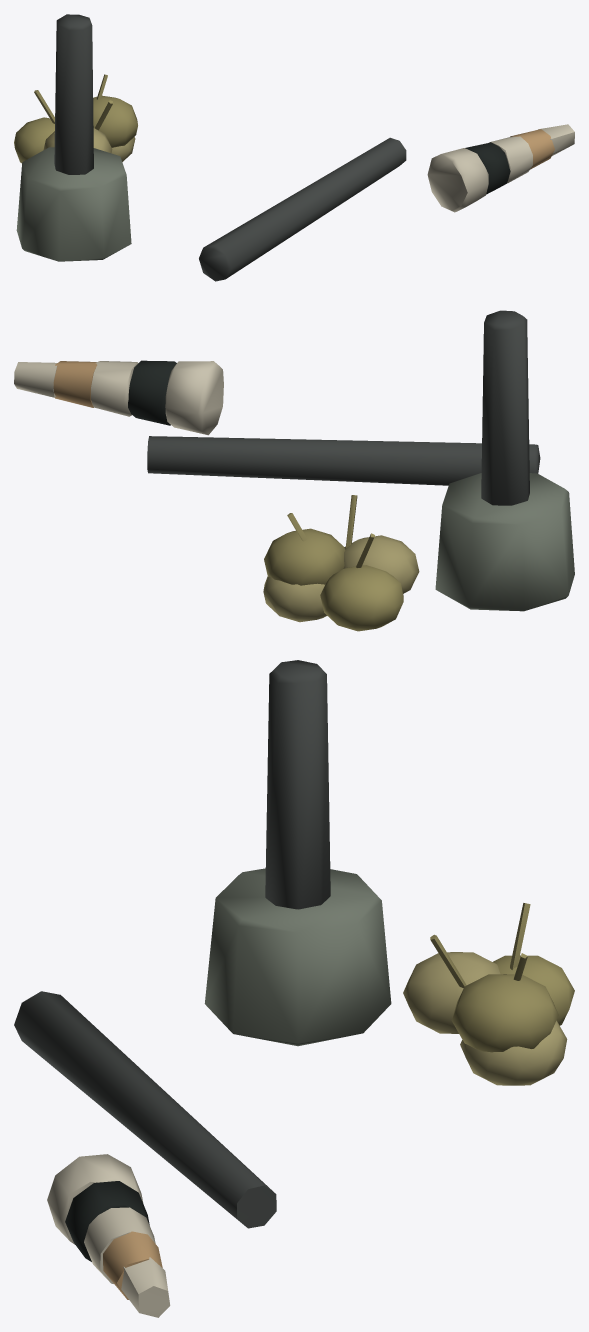
Rendered from windsock_b_lod1.glb.
3 views of the same model, one above another, from view 1: azimuth 30°, elevation 25°; view 2: azimuth 150°, elevation 25°; view 3: azimuth 270°, elevation 25° (orthographic). The views are drawn at different scales.
Visible parts, largest first — view 1: Surface.001; view 2: Surface.001; view 3: Surface.001.
Boxes of the visible parts, box(x1,y1,x2,y2) form: Surface.001: box(14, 14, 574, 281); Surface.001: box(14, 310, 574, 631); Surface.001: box(14, 660, 574, 1317).
Size of the model in its own units: 3.59 by 1.5 by 2.25.
